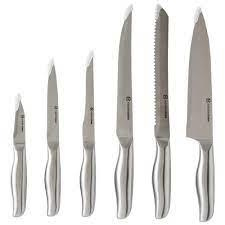knives: (100, 0, 183, 223)
